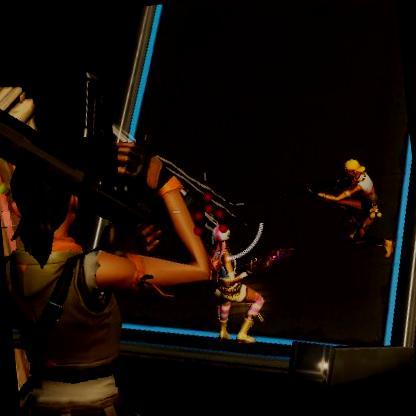person: (198, 226, 259, 354), (336, 143, 394, 257)
